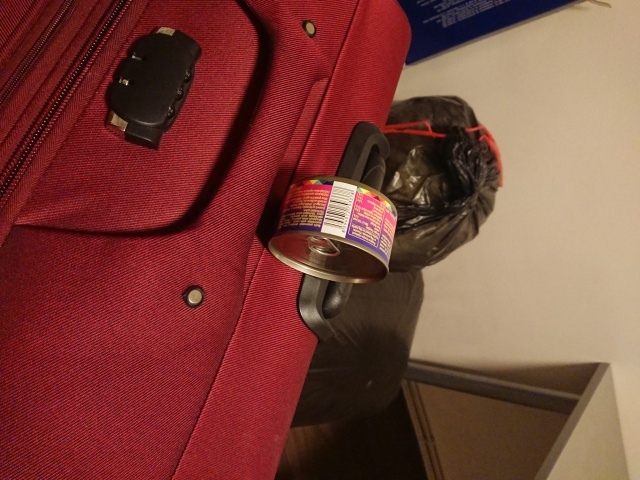Giana Tuna Salad Mexico 185g: (263, 171, 401, 288)
